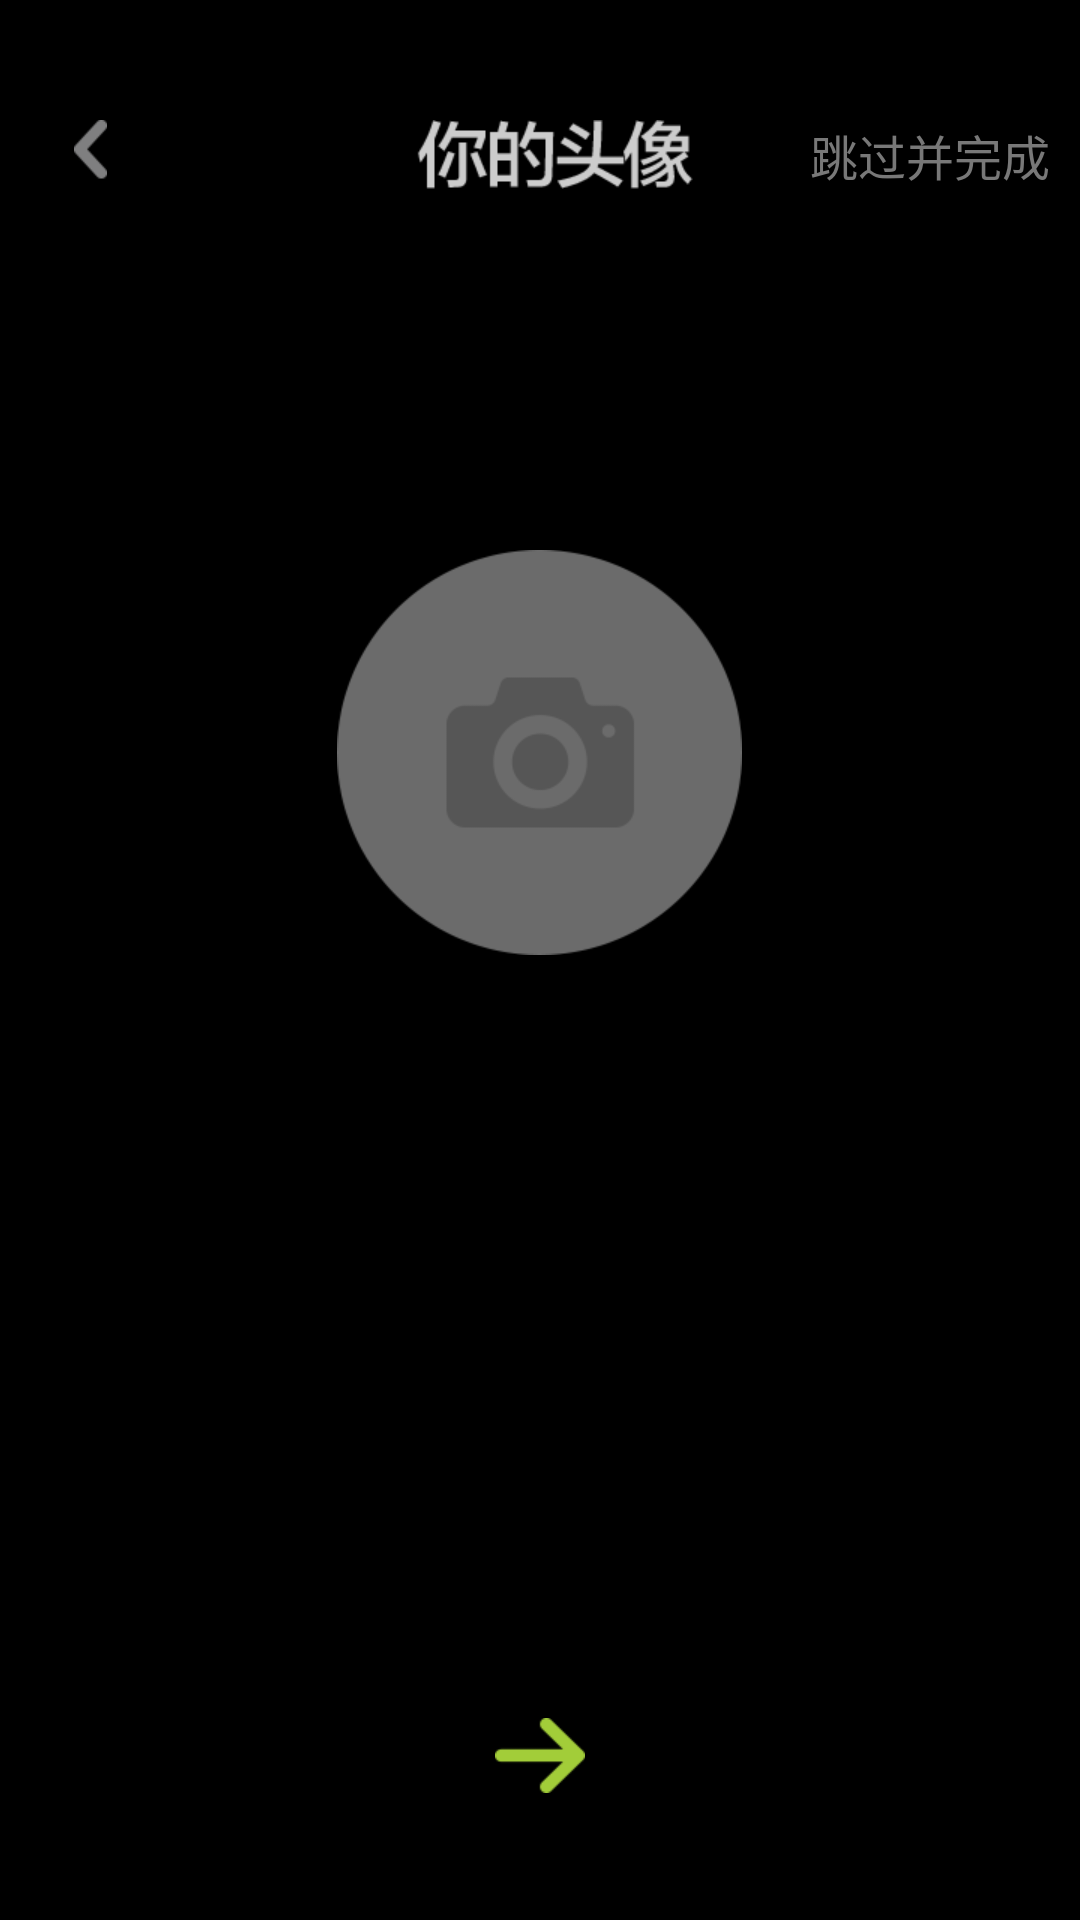

Icon bounding boxes for this 1080w x 1920h phone screenshot, format [x1=x1, y1=y1, x2=x2, y2=y2]:
back: [x1=74, y1=120, x2=107, y2=179]
regist arrow: [x1=495, y1=1718, x2=585, y2=1793]
